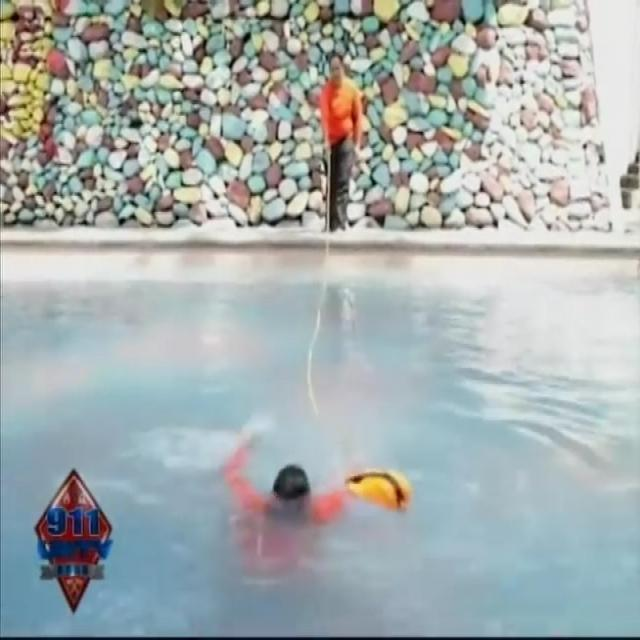drowning: (208, 415, 407, 576)
out of water: (318, 32, 373, 225)
